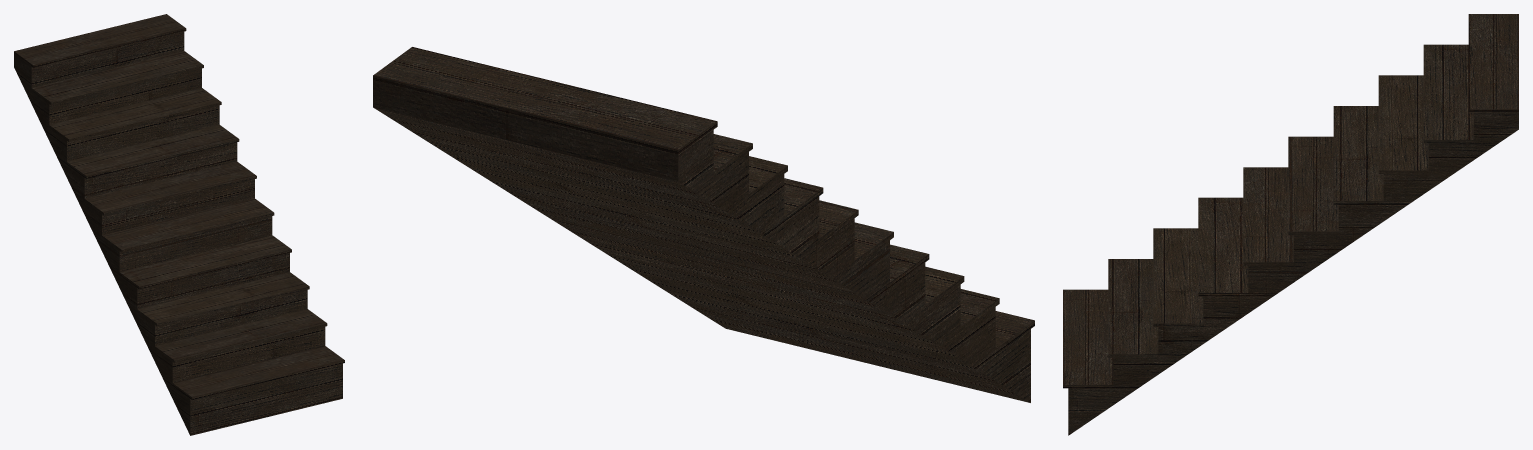
File: stairs_5_wood.glb
3 renders of one model, left to right at view 1: azimuth 30°, elevation 25°; view 2: azimuth 150°, elevation 25°; view 3: azimuth 270°, elevation 25°, orthographic. The views are drawn at different scales.
Visible parts, largest first — view 1: stairs_5_wood; view 2: stairs_5_wood; view 3: stairs_5_wood.
Part boxes in pixels (<box>): stairs_5_wood: <box>14,14,344,435</box>; stairs_5_wood: <box>373,47,1034,402</box>; stairs_5_wood: <box>1063,14,1518,435</box>.
Bounding box in the file's own units: 2 × 3.2 × 4.05.
Materials: 1 (1 with a texture image).
